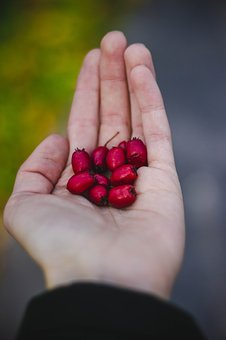palm: (38, 163, 187, 279)
